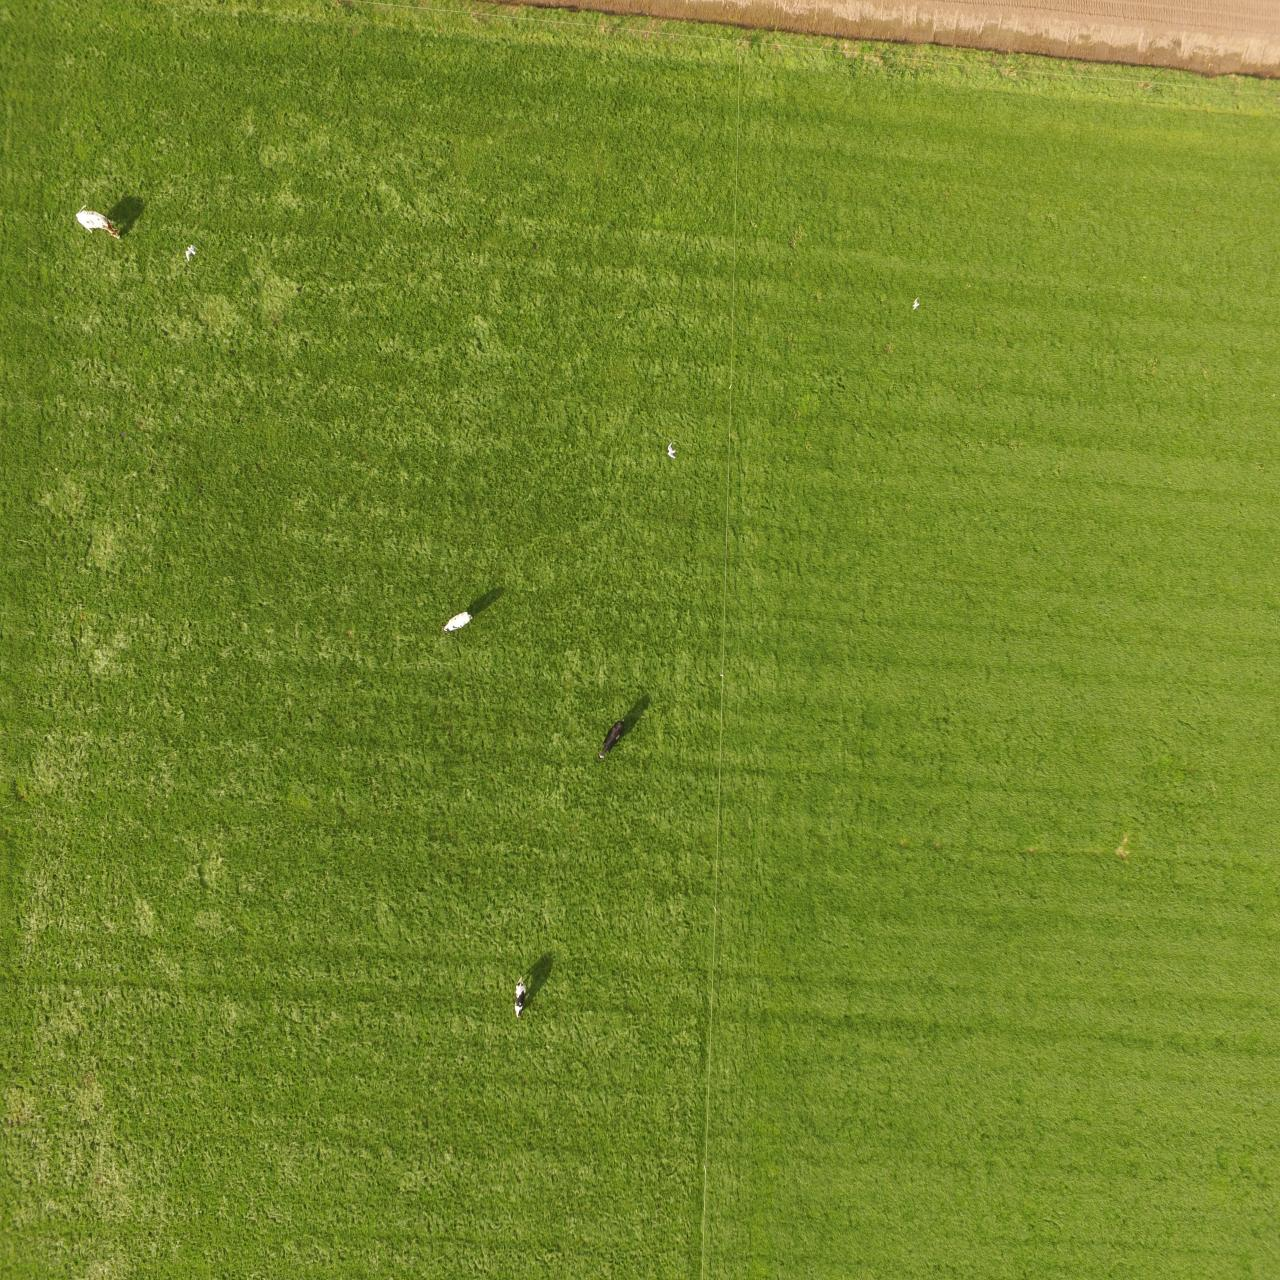cow: (74, 203, 122, 244), (595, 713, 625, 762), (441, 607, 475, 635), (513, 971, 527, 1020)
